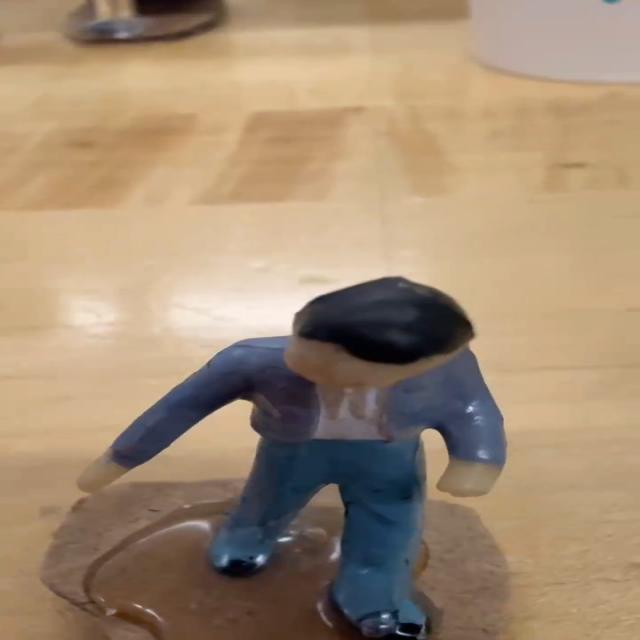Authorized: (80, 276, 521, 636)
